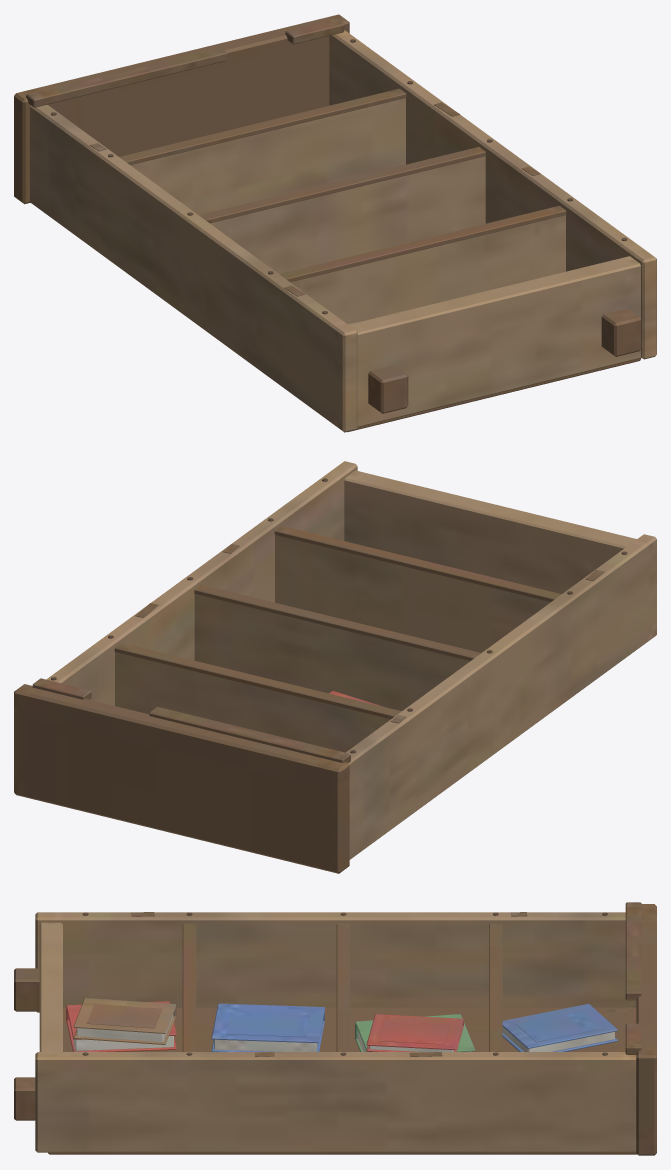
Rendered from BR36_fallen_bookcase.glb.
3 views of the same model, one above another, from view 1: azimuth 30°, elevation 25°; view 2: azimuth 150°, elevation 25°; view 3: azimuth 270°, elevation 25° (orthographic). The views are drawn at different scales.
Parts seen in each view (by area): view 1: Dark plywood back; view 2: Dark plywood back; view 3: Dark plywood back.
Boxes of the visible parts, left/top/right/bottom form: Dark plywood back: left=14, top=14, right=656, bottom=432; Dark plywood back: left=14, top=461, right=656, bottom=873; Dark plywood back: left=14, top=902, right=656, bottom=1155.
Bounding box in the file's own units: 1.01 × 0.3404 × 1.8.
Materials: 12 (12 with a texture image).
